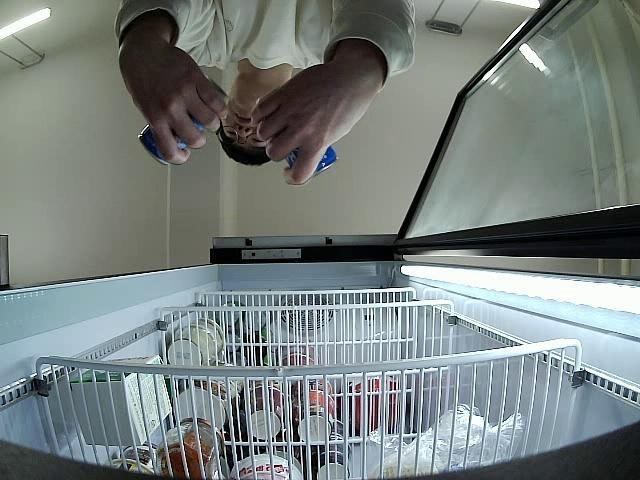15_letsbe: (136, 76, 230, 166), (285, 143, 338, 177)
